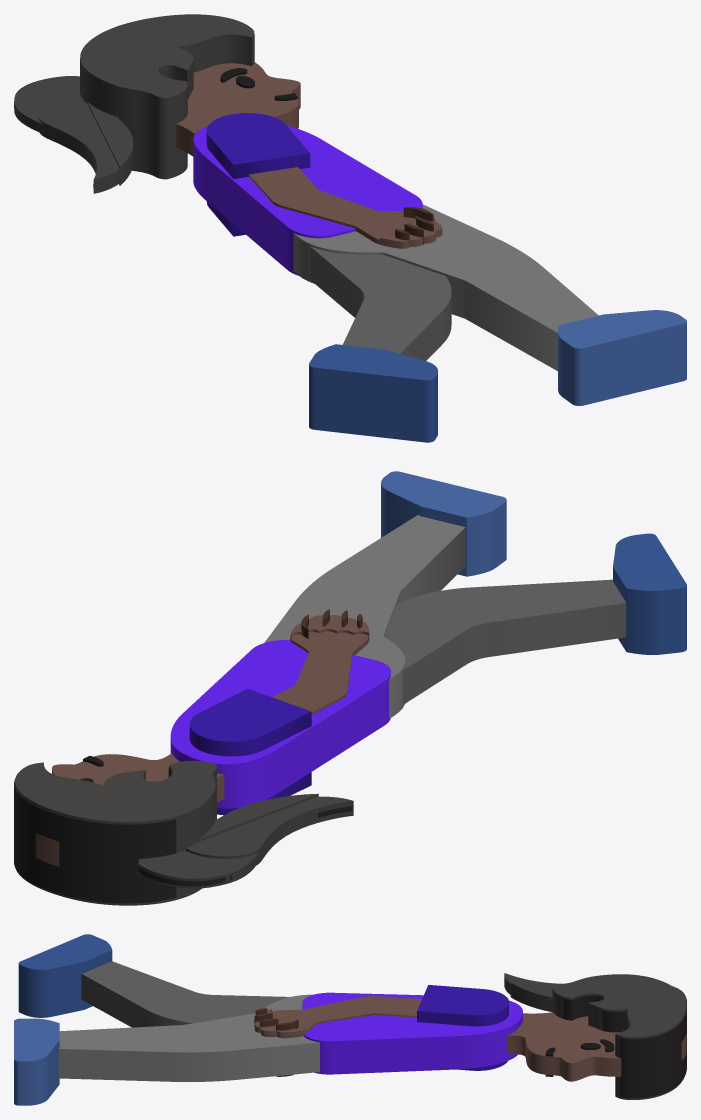
The model's file is emoji_u1f6b6_1f3ff_200d_2640_200d_27a1.glb.
3 views of the same model, one above another, from view 1: azimuth 30°, elevation 25°; view 2: azimuth 150°, elevation 25°; view 3: azimuth 270°, elevation 25° (orthographic). The views are drawn at different scales.
Visible parts, largest first — view 1: emoji_u1f6b6_1f3ff_200d_2640_200d_27a1; view 2: emoji_u1f6b6_1f3ff_200d_2640_200d_27a1; view 3: emoji_u1f6b6_1f3ff_200d_2640_200d_27a1.
Part boxes in pixels (<box>): emoji_u1f6b6_1f3ff_200d_2640_200d_27a1: <box>14,14,686,442</box>; emoji_u1f6b6_1f3ff_200d_2640_200d_27a1: <box>14,471,686,905</box>; emoji_u1f6b6_1f3ff_200d_2640_200d_27a1: <box>14,934,686,1105</box>.
Bounding box in the file's own units: 0.0145 × 0.0034 × 0.033.
